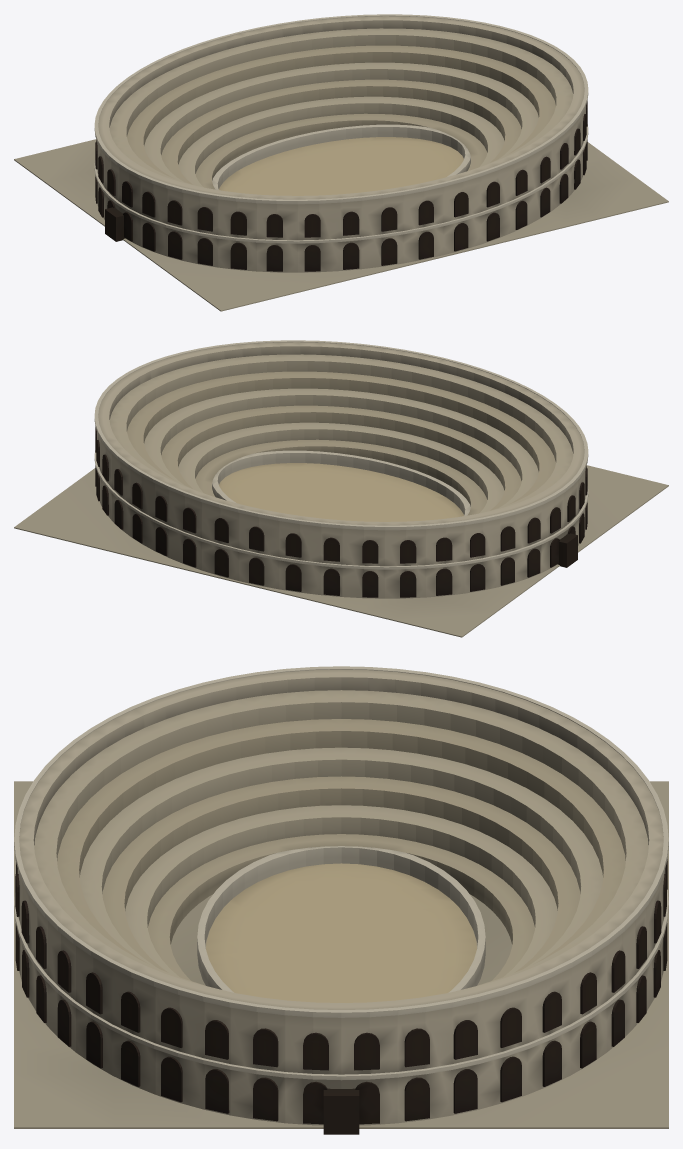
File: amphitheatre.glb
3 renders of one model, top to bottom at view 1: azimuth 30°, elevation 25°; view 2: azimuth 150°, elevation 25°; view 3: azimuth 270°, elevation 25°, orthographic. The views are drawn at different scales.
Parts seen in each view (by area): view 1: p0_cavea, p1_arcades, p2_arena; view 2: p0_cavea, p1_arcades, p2_arena; view 3: p0_cavea, p1_arcades, p2_arena.
Part boxes in pixels (bbox=[...]): p0_cavea: bbox=[14, 28, 668, 311]; p1_arcades: bbox=[94, 14, 588, 272]; p2_arena: bbox=[105, 124, 470, 241]; p0_cavea: bbox=[14, 354, 668, 637]; p1_arcades: bbox=[94, 340, 588, 598]; p2_arena: bbox=[212, 450, 577, 567]; p0_cavea: bbox=[14, 690, 668, 1128]; p1_arcades: bbox=[14, 666, 668, 1125]; p2_arena: bbox=[197, 846, 485, 1134].
Bounding box in the file's own units: 119 × 18.1 × 92.
